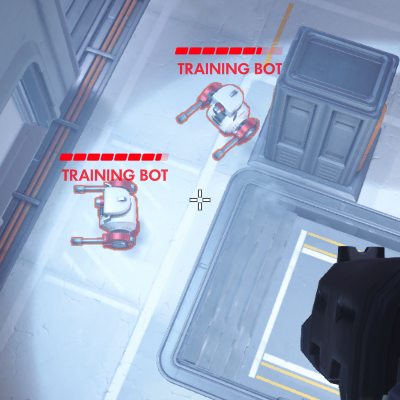hpbar: (59, 152, 170, 162), (174, 46, 283, 55)
